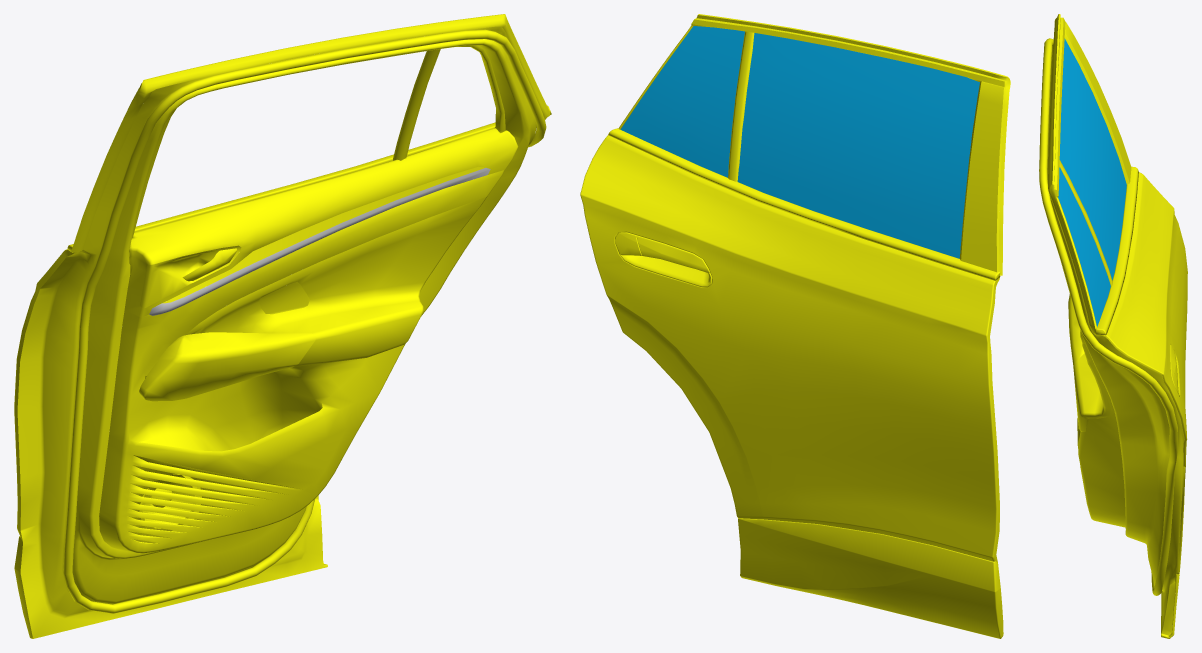
File: Men_YouHou.glb
3 views of the same model, side by side, from view 1: azimuth 30°, elevation 25°; view 2: azimuth 150°, elevation 25°; view 3: azimuth 270°, elevation 25° (orthographic). The views are drawn at different scales.
Visible parts, largest first — view 1: WaiKe12, WaiKe17, CheMen13, WaiKe13, 对象044, 车门9, 对象075, 对象091, 对象074, 对象037, 贴图7; view 2: 对象037, Material__2910, 对象039, 对象044, 对象030, 对象074, 对象023; view 3: WaiKe17, 对象037, Material__2910, WaiKe13, WaiKe12, 对象044, 对象074, CheMen13, 对象030, 车门9, 对象039, 对象023.
Boxes of the visible parts, <box> form: WaiKe12: <box>99,128,518,553</box>; WaiKe17: <box>17,26,543,638</box>; CheMen13: <box>185,196,487,366</box>; WaiKe13: <box>63,29,546,613</box>; 对象044: <box>71,14,550,531</box>; 车门9: <box>139,245,315,401</box>; 对象075: <box>162,166,485,303</box>; 对象091: <box>149,168,490,315</box>; 对象074: <box>67,105,551,252</box>; 对象037: <box>14,249,74,541</box>; 贴图7: <box>192,281,309,349</box>; 对象037: <box>580,135,999,562</box>; Material__2910: <box>620,26,979,258</box>; 对象039: <box>738,518,1003,638</box>; 对象044: <box>618,14,1010,275</box>; 对象030: <box>959,81,1005,272</box>; 对象074: <box>608,128,1000,280</box>; 对象023: <box>615,232,710,272</box>; WaiKe17: <box>1047,46,1184,637</box>; 对象037: <box>1099,172,1187,574</box>; Material__2910: <box>1058,38,1126,326</box>; WaiKe13: <box>1039,38,1177,595</box>; WaiKe12: <box>1077,330,1125,527</box>; 对象044: <box>1048,14,1112,333</box>; 对象074: <box>1095,166,1138,335</box>; CheMen13: <box>1073,353,1110,431</box>; 对象030: <box>1064,22,1131,184</box>; 车门9: <box>1068,294,1084,364</box>; 对象039: <box>1161,486,1184,638</box>; 对象023: <box>1170,344,1178,394</box>.
Size of the model in its own units: 1.11 by 1.26 by 0.3259.
4 materials, 2 textured.
